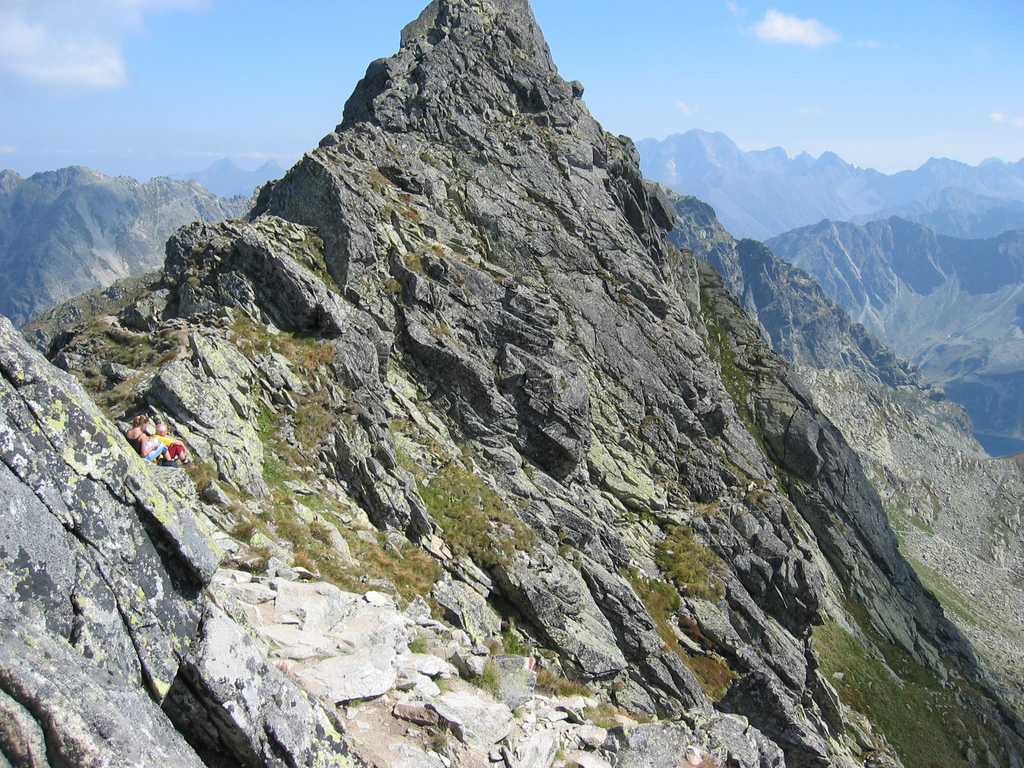person: (121, 415, 221, 504)
